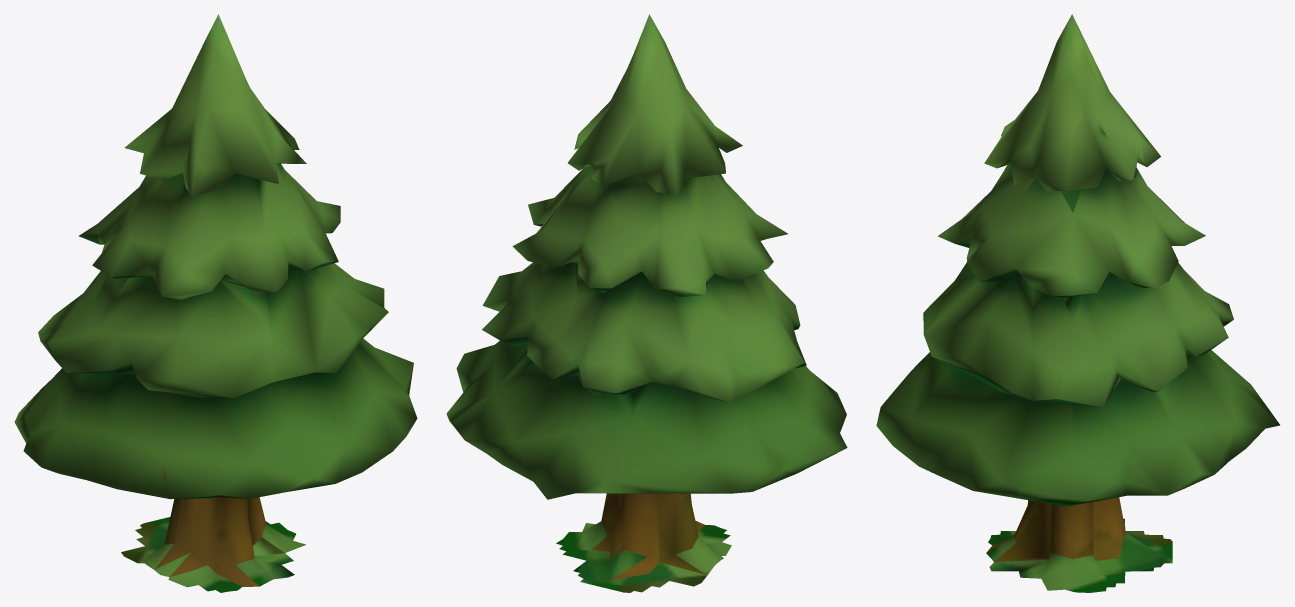
Rendered from new_fir.glb.
The picture shows the model from 3 angles, left to right: view 1: azimuth 30°, elevation 25°; view 2: azimuth 150°, elevation 25°; view 3: azimuth 270°, elevation 25°; orthographic projection.
Parts seen in each view (by area): view 1: tmp0wmw481b.ply; view 2: tmp0wmw481b.ply; view 3: tmp0wmw481b.ply.
Part boxes in pixels (box(x1,y1,x2,y2)): tmp0wmw481b.ply: box(14, 14, 417, 592); tmp0wmw481b.ply: box(446, 14, 847, 592); tmp0wmw481b.ply: box(876, 14, 1279, 592).
Bounding box in the file's own units: 1.46 × 1.97 × 1.33.
1 material, 1 textured.
